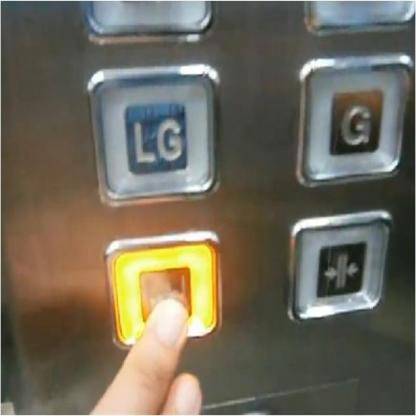G: (295, 52, 414, 186)
LG: (86, 63, 220, 206)
close: (286, 208, 392, 322)
unknown: (102, 231, 224, 350)
